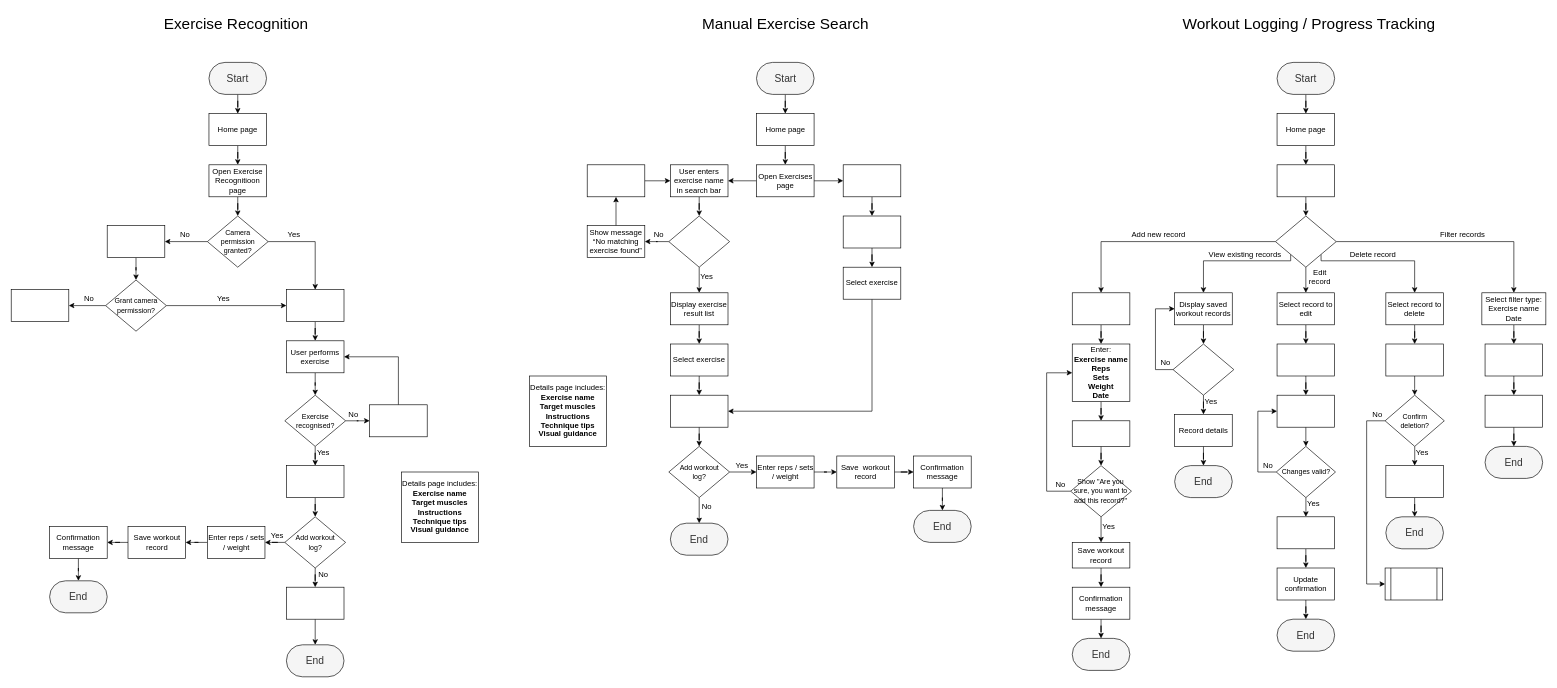
Some shapes in this 1557 by 688 pixel diagram are drawn without their labels. Here are the shapes that lost their labels. From the top down, the box of each, then its label:
(587, 164, 645, 197): Suggest: Try another keyword
(843, 164, 901, 197): User chooses category
(1276, 164, 1335, 197): Open Workout Records (Logs) page
(107, 225, 165, 258): Request camera permission
(668, 215, 730, 267): Exercise found?
(843, 215, 901, 248): Display proposed exercises
(1275, 215, 1336, 267): Choose action?
(11, 289, 69, 322): Show error & suggest manual search
(286, 289, 344, 322): Camera screen: Capture body movement
(1072, 292, 1130, 325): Open new record form
(1172, 343, 1234, 395): View record details?
(1276, 343, 1335, 376): Click "Edit" button
(1385, 343, 1443, 376): Click "Delete" button
(1484, 343, 1543, 376): Apply filter
(369, 404, 427, 437): Ask user to adjust camera position / retry
(670, 395, 728, 427): Open exercise details page
(1276, 395, 1335, 427): Modify reps / sets / weight / date
(1484, 395, 1543, 427): Display filtered results
(1072, 420, 1130, 446): Click "Add"
(286, 465, 344, 498): Display exercise details
(1385, 465, 1443, 498): Deletion confirmation
(1276, 516, 1335, 549): Save updated record
(286, 587, 344, 619): Return to Home page
(1384, 567, 1443, 600): Return to workout records
